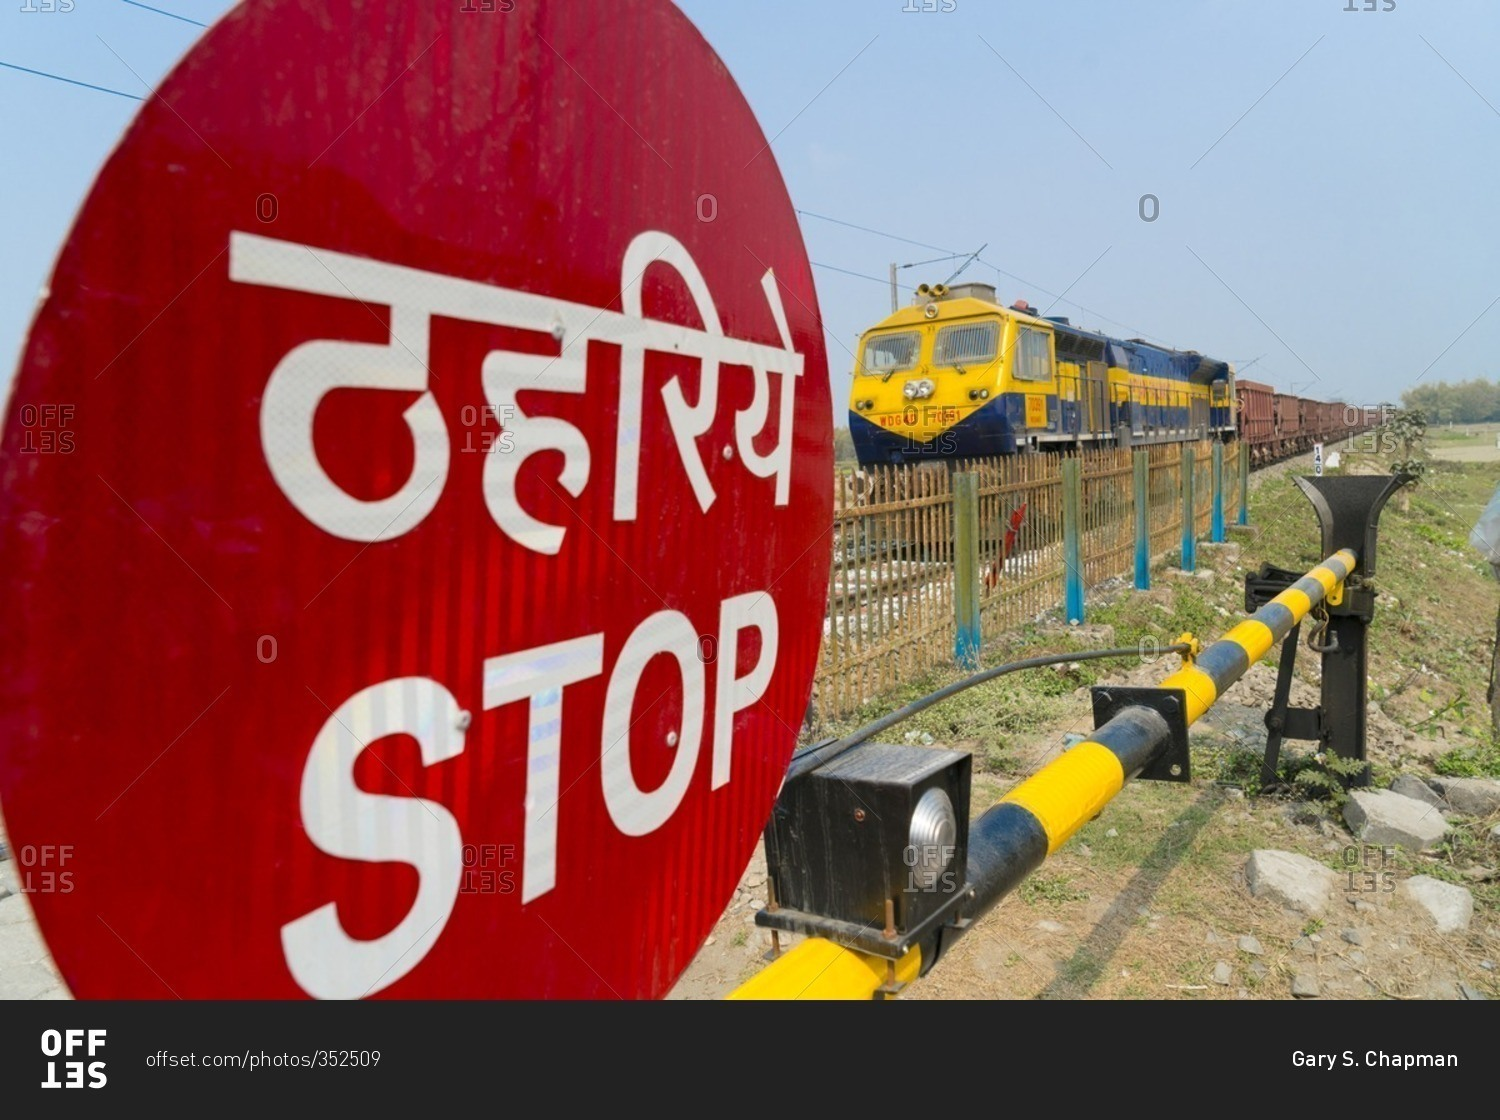stop: (145, 74, 841, 1008)
